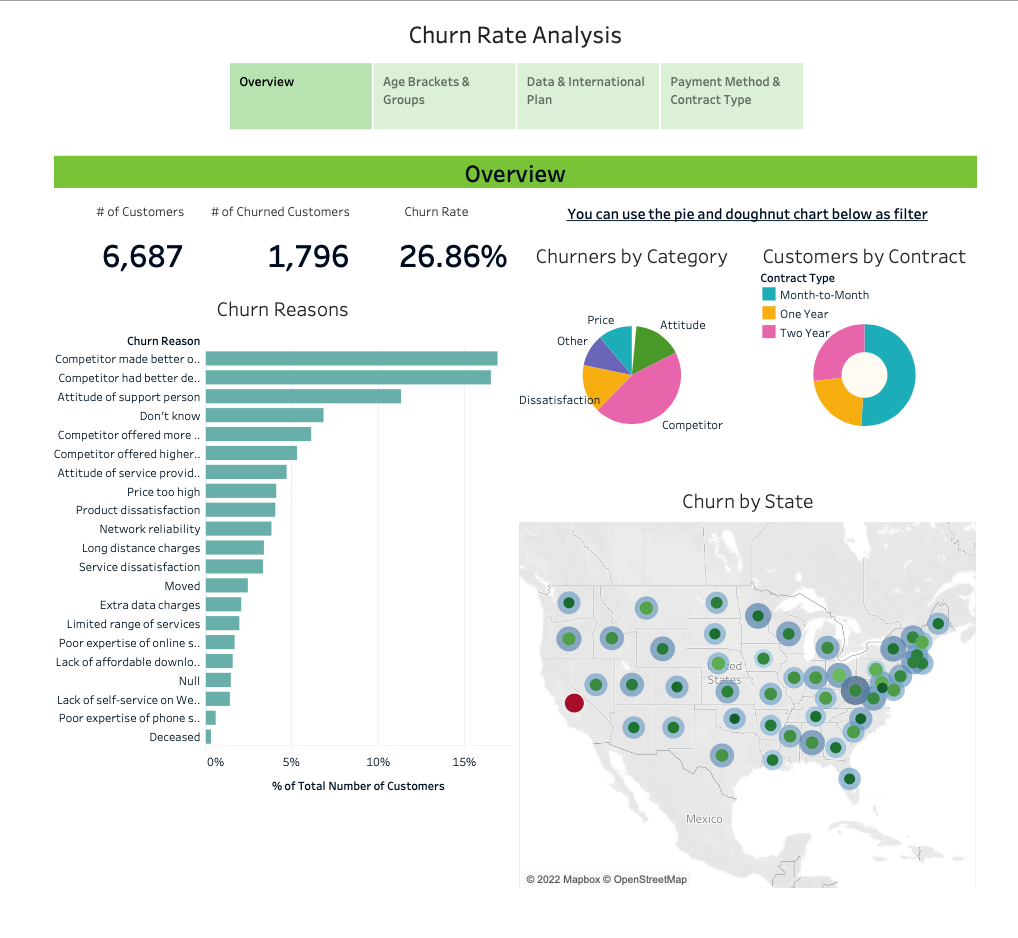

Layout of this report page (visuals, bound fields, positions):
{"tool":"tableau","page":{"name":"Overview","canvas":[1000,800],"ordinal":2},"visuals":[{"type":"title","box":[8,8,984,41]},{"type":"worksheet","title":"# of Customers","mark":"Automatic","box":[8,49,150,99.1]},{"type":"worksheet","title":"# of Churned Customers","mark":"Automatic","box":[158,49,175,99.1]},{"type":"worksheet","title":"Churn Rate","mark":"Automatic","box":[333,49,167,99.1]},{"type":"text","box":[500,49,492,43]},{"type":"worksheet","title":"Churners by Category","mark":"Pie","box":[500,92,246,259.4]},{"type":"worksheet","title":"Customers by Contract","mark":"Pie","rows":["Calculation_401101859135664128","Calculation_401101859135664128"],"box":[746,92,246,259.4]},{"type":"legend","title":"Customers by Contract","param":"[federated.1559pdh1893exj185r2jq1n05w4m].[none:Contract Type:nk]","box":[758,129,229,79]},{"type":"worksheet","title":"Churn Reasons","mark":"Automatic","rows":["Churn Reason"],"cols":["Calculation_161848126832214016"],"box":[8,148.1,492,643.9]},{"type":"worksheet","title":"Churn by State","mark":"Automatic","box":[500,351.4,492,440.6]}]}

Visuals, with their boxes on the page's 1000x800 design canvas (x1, y1, x2, y2). These are canvas units, not pixel positions in the 1018x938 screenshot, which may show the page scaled, cropped or inside an application window:
title: (8,8,992,49)
"# of Customers" worksheet: (8,49,158,148)
"# of Churned Customers" worksheet: (158,49,333,148)
"Churn Rate" worksheet: (333,49,500,148)
text: (500,49,992,92)
"Churners by Category" worksheet (Pie marks): (500,92,746,351)
"Customers by Contract" worksheet (Pie marks): (746,92,992,351)
"Customers by Contract" legend: (758,129,987,208)
"Churn Reasons" worksheet: (8,148,500,792)
"Churn by State" worksheet: (500,351,992,792)
